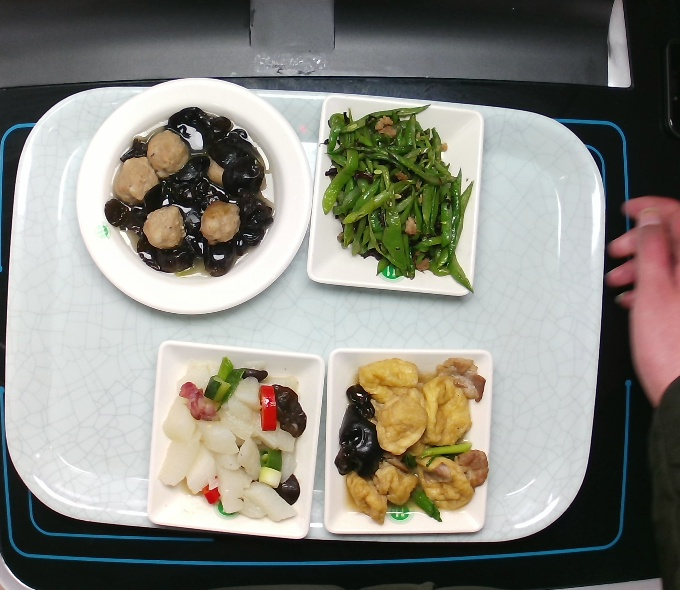wcq-MuErWanZi: (102, 104, 279, 282)
wcq-ShanYao: (156, 352, 311, 526)
wcq-SiJiDouChaoRou: (317, 101, 478, 296)
wcq-YouPaoRouPian: (331, 354, 490, 527)
